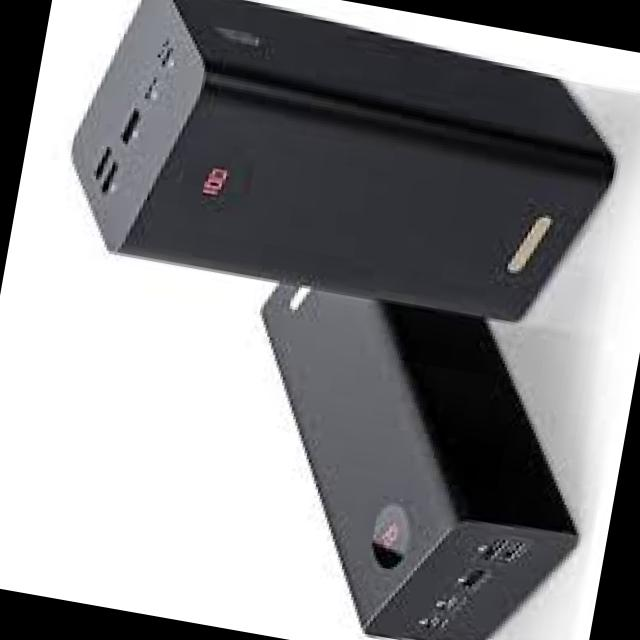power_bank: (50, 0, 635, 339), (204, 283, 609, 640)
